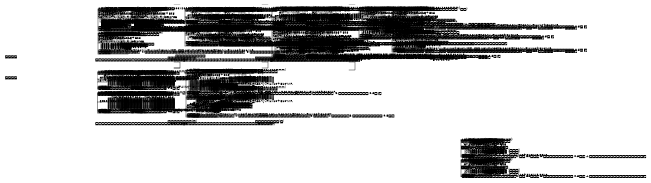room: (416, 114, 425, 122), (127, 116, 137, 122), (272, 116, 281, 122), (302, 144, 305, 145), (302, 135, 305, 136), (158, 146, 161, 147), (212, 146, 215, 147), (356, 144, 359, 145), (356, 135, 359, 136), (445, 165, 448, 166), (445, 156, 448, 157), (499, 165, 502, 166)
wall: (600, 0, 651, 40)
